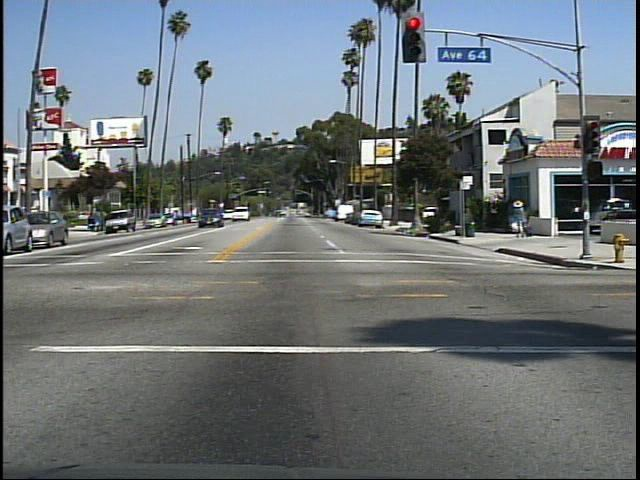person: (507, 194, 534, 245)
